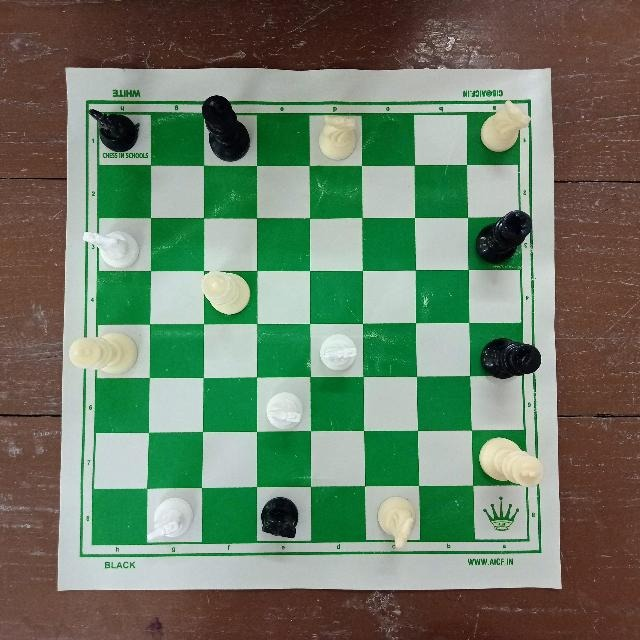black-king: (192, 93, 260, 160), (477, 206, 535, 266), (477, 334, 543, 384)
black-knight: (84, 102, 144, 156), (254, 492, 302, 542)
white-king: (67, 324, 141, 378), (478, 436, 546, 490)
white-knight: (80, 222, 145, 276), (478, 98, 532, 154), (372, 490, 420, 553), (312, 108, 360, 164), (315, 327, 363, 376), (262, 388, 307, 438), (146, 500, 197, 542)
white-queen: (200, 266, 254, 319)
